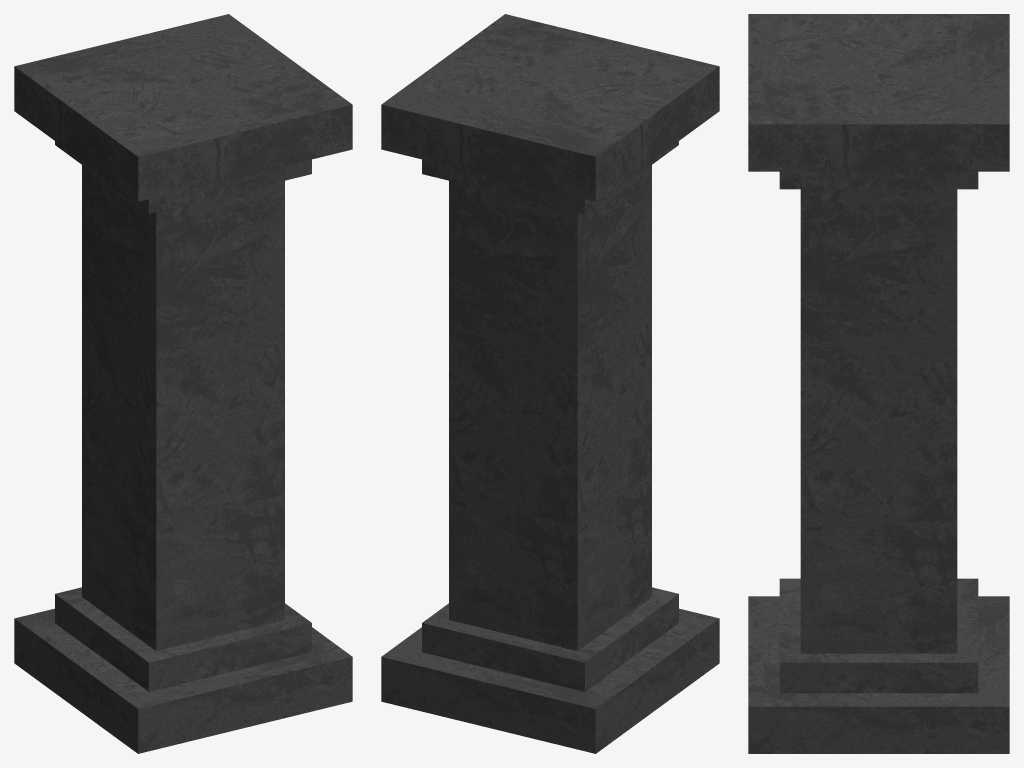
Rendered from Pillar.FBX.
3 renders of one model, left to right at view 1: azimuth 30°, elevation 25°; view 2: azimuth 150°, elevation 25°; view 3: azimuth 270°, elevation 25°, orthographic. The views are drawn at different scales.
Visible parts, largest first — view 1: Box001; view 2: Box001; view 3: Box001.
Boxes of the visible parts, box(x1,y1,x2,y2) form: Box001: box(14, 14, 352, 753); Box001: box(381, 14, 719, 753); Box001: box(748, 14, 1009, 753).
Bounding box in the file's own units: 1 × 2.66 × 1.
